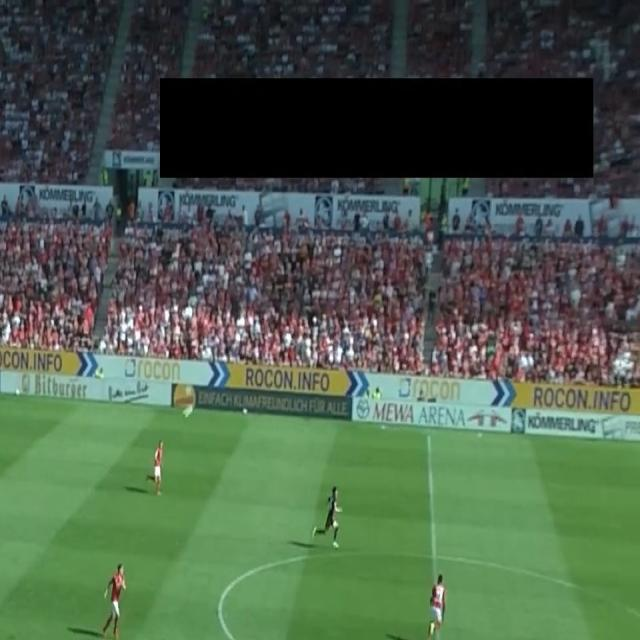ball: (182, 403, 194, 418)
